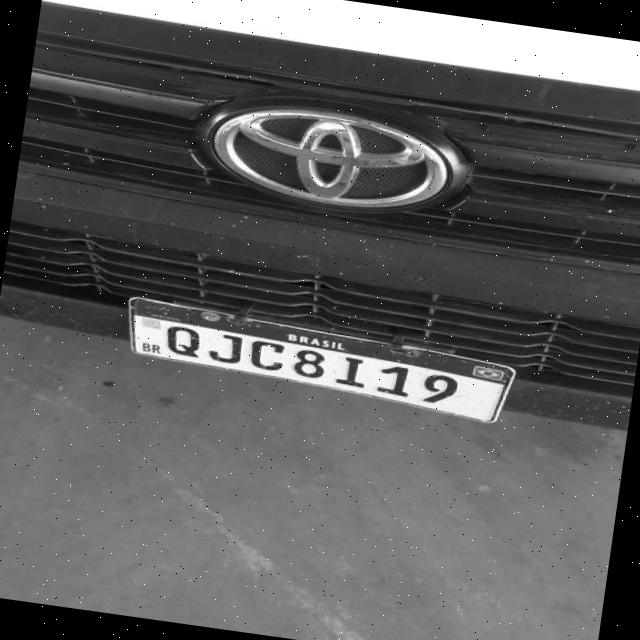placa_mercosul: (128, 298, 514, 423)
